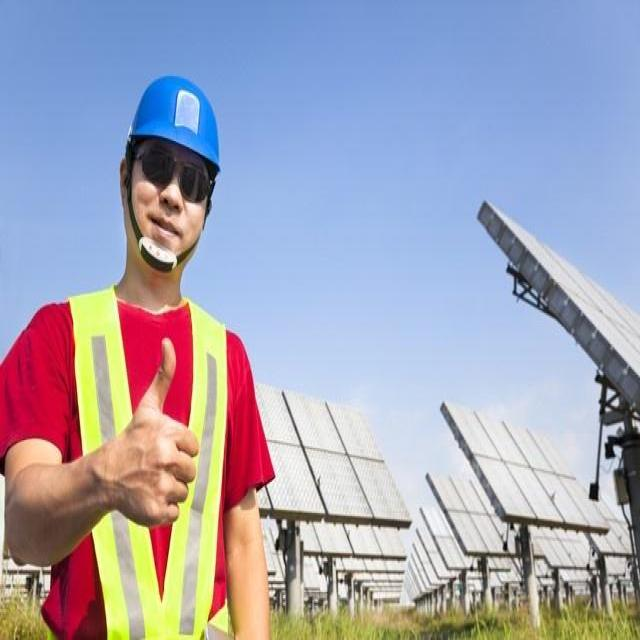person: (0, 77, 268, 640)
